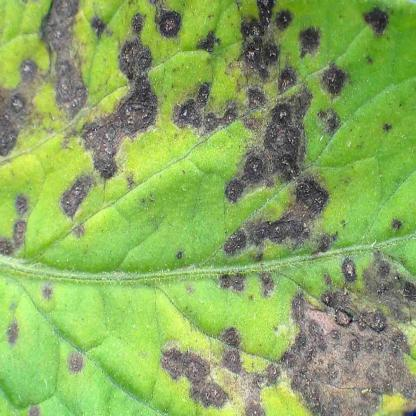tomato septoria leaf spot: (0, 7, 410, 416)
